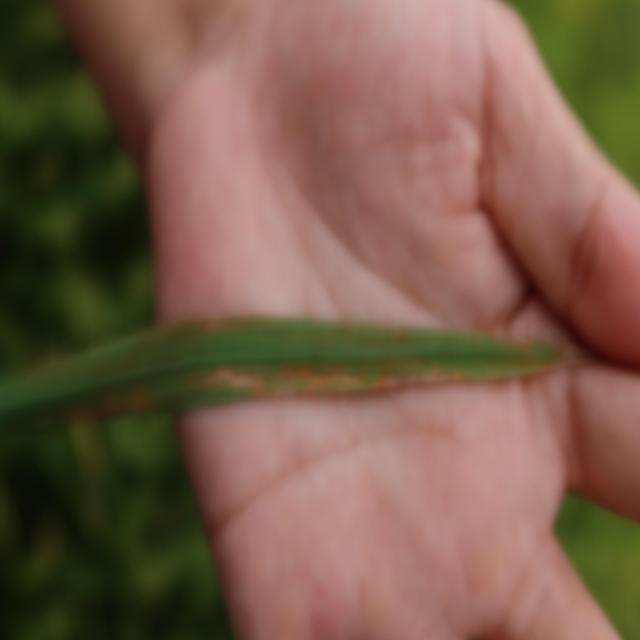Dom soc vi khuan: (283, 370, 402, 396), (205, 368, 262, 391)
